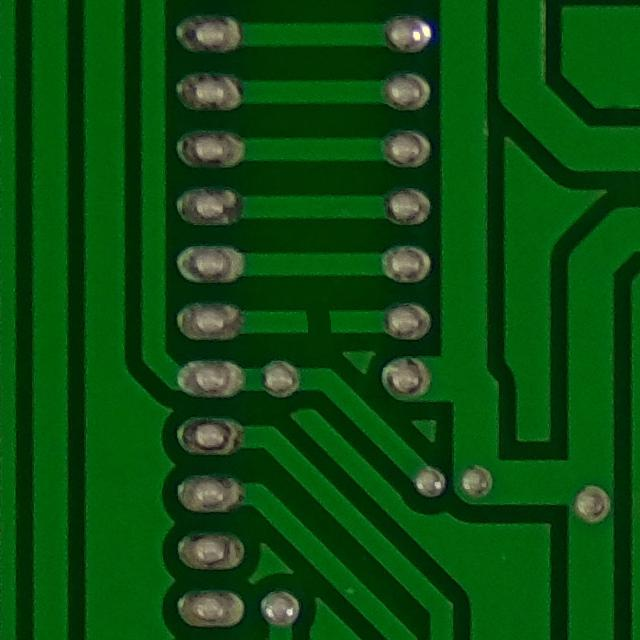open_circuit: (294, 298, 347, 343)
